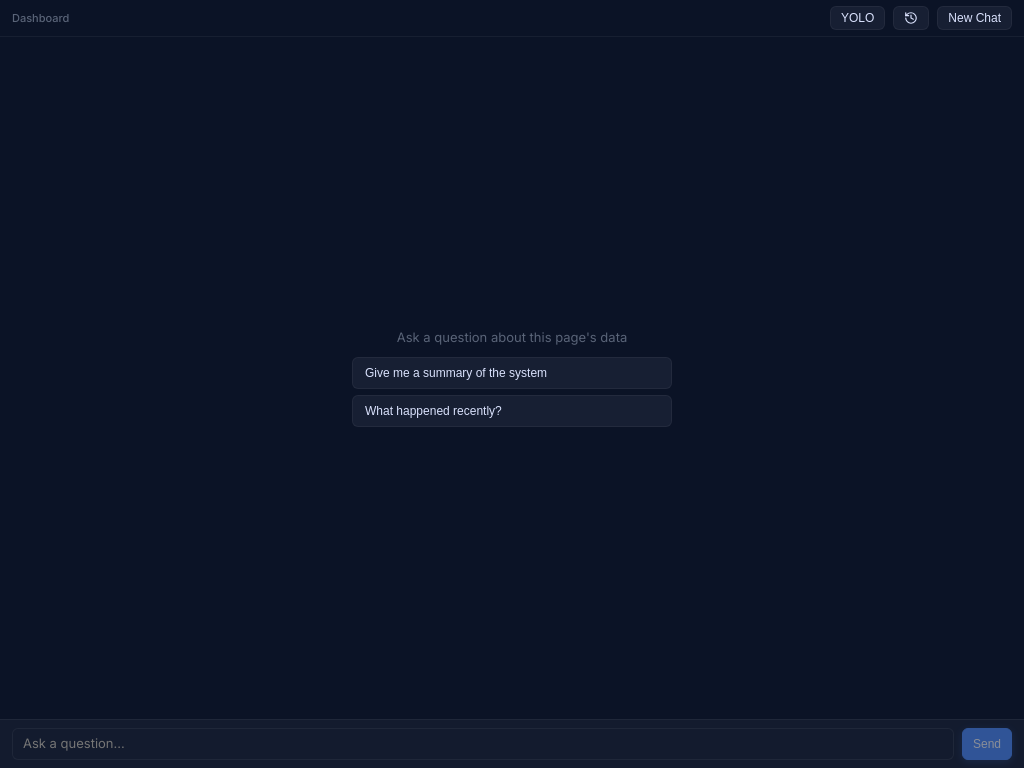
Test case: AiChatPanel › hides the empty state after sending the first message
Check: the element with test id "ai-chat-empty" is shown, box [352,329,672,427]
Type "First message" into the text box with test id "ai-chat-input" at [483, 744], box [12,728,954,760]
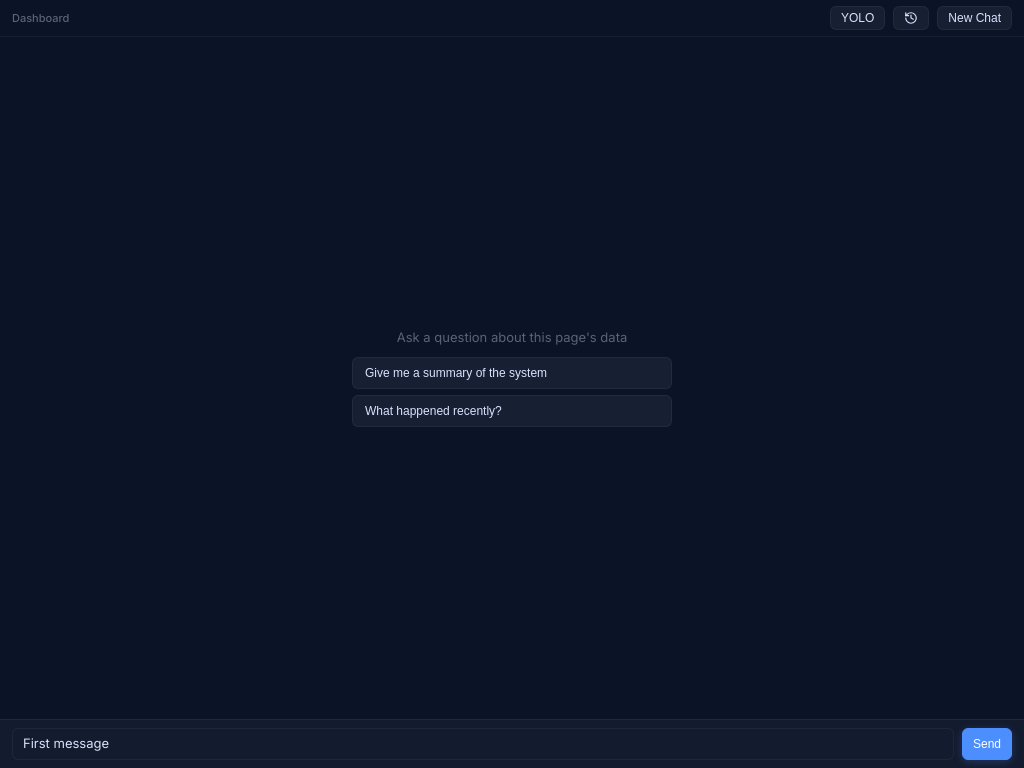
Click the button with test id "ai-chat-send-btn" at [987, 744], box [962,728,1012,760]
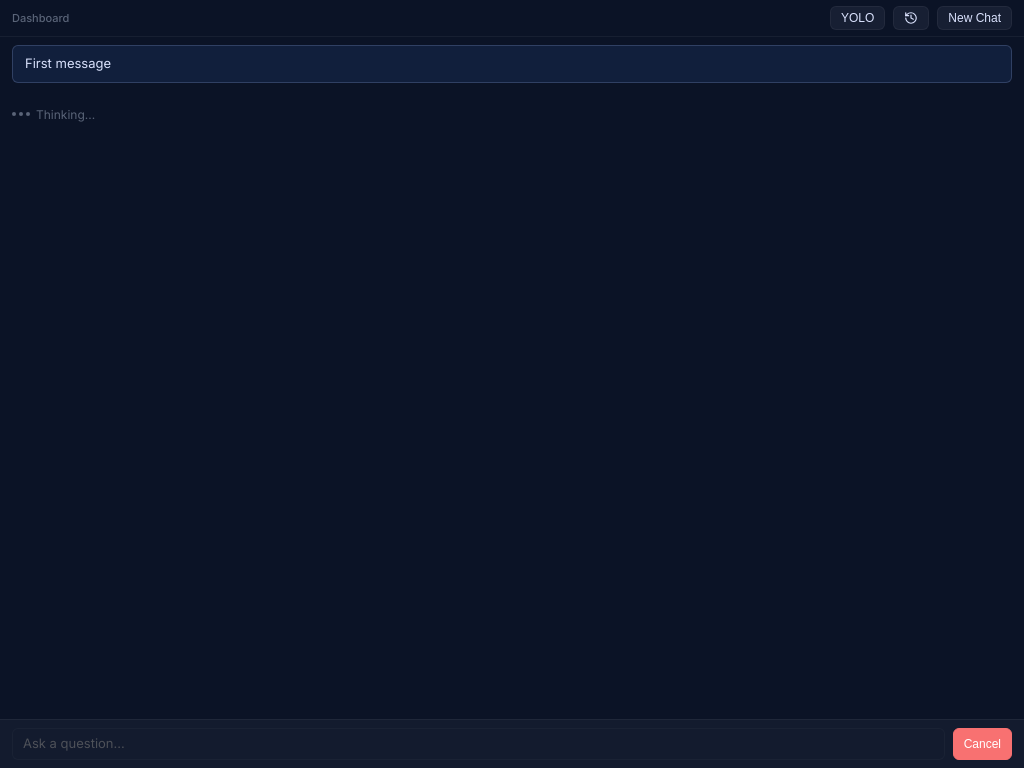
Check: the element with test id "ai-chat-empty" is gone
